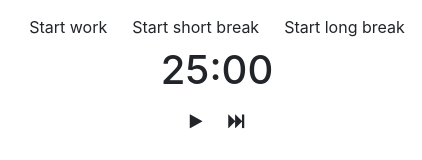
it: Sets timer value correctly when Start Work is clicked when the timer is already running
Click the button with id "startShortBreak". click: (196, 27)
box: [119,8,272,46]
Wait 10000 ms
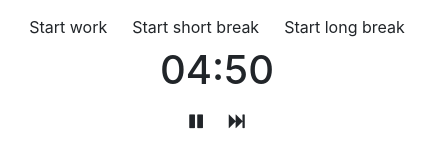
Click the button with id "startWork". click: (68, 27)
box: [16,8,120,46]
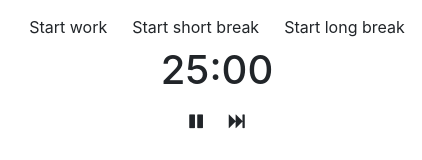
expect the heading with id "timer" reads "25:00": met, box [161,45,273,94]
